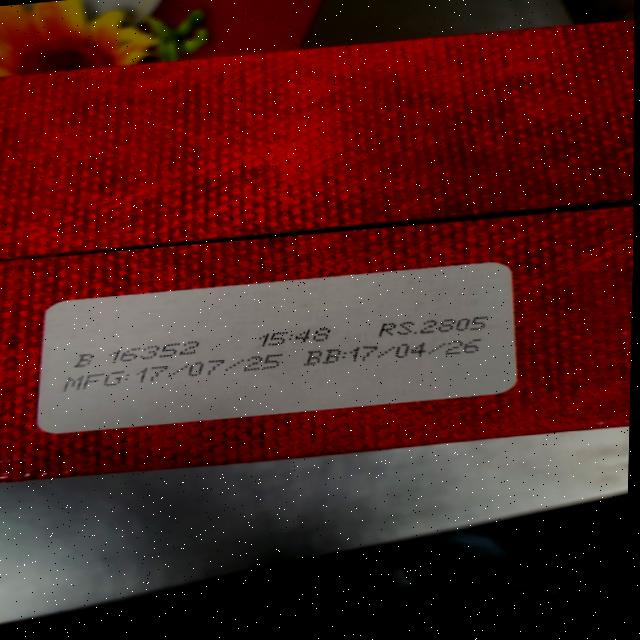BB: (302, 334, 488, 369)
Batch: (71, 340, 205, 367)
MFG: (64, 352, 284, 391)
RS: (378, 314, 491, 338)
TimeStamp: (256, 327, 335, 347)
